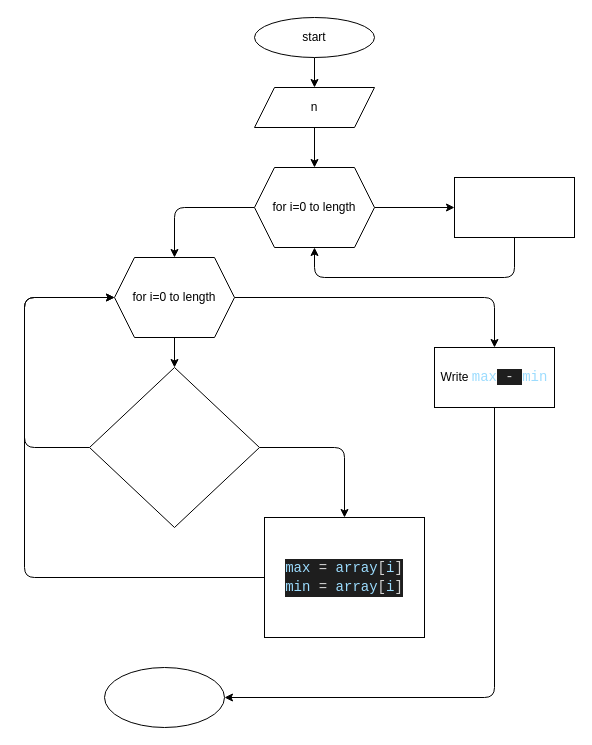
Image size: 592x745. Some labels were removed from this diagram. Here are the shapes that lost their labels. From the top down, the box of each, then its label:
(454, 176, 574, 238): random array[i] 10
(88, 366, 260, 528): array [ i ] > max array [ i ] < min
(104, 666, 224, 728): stop
